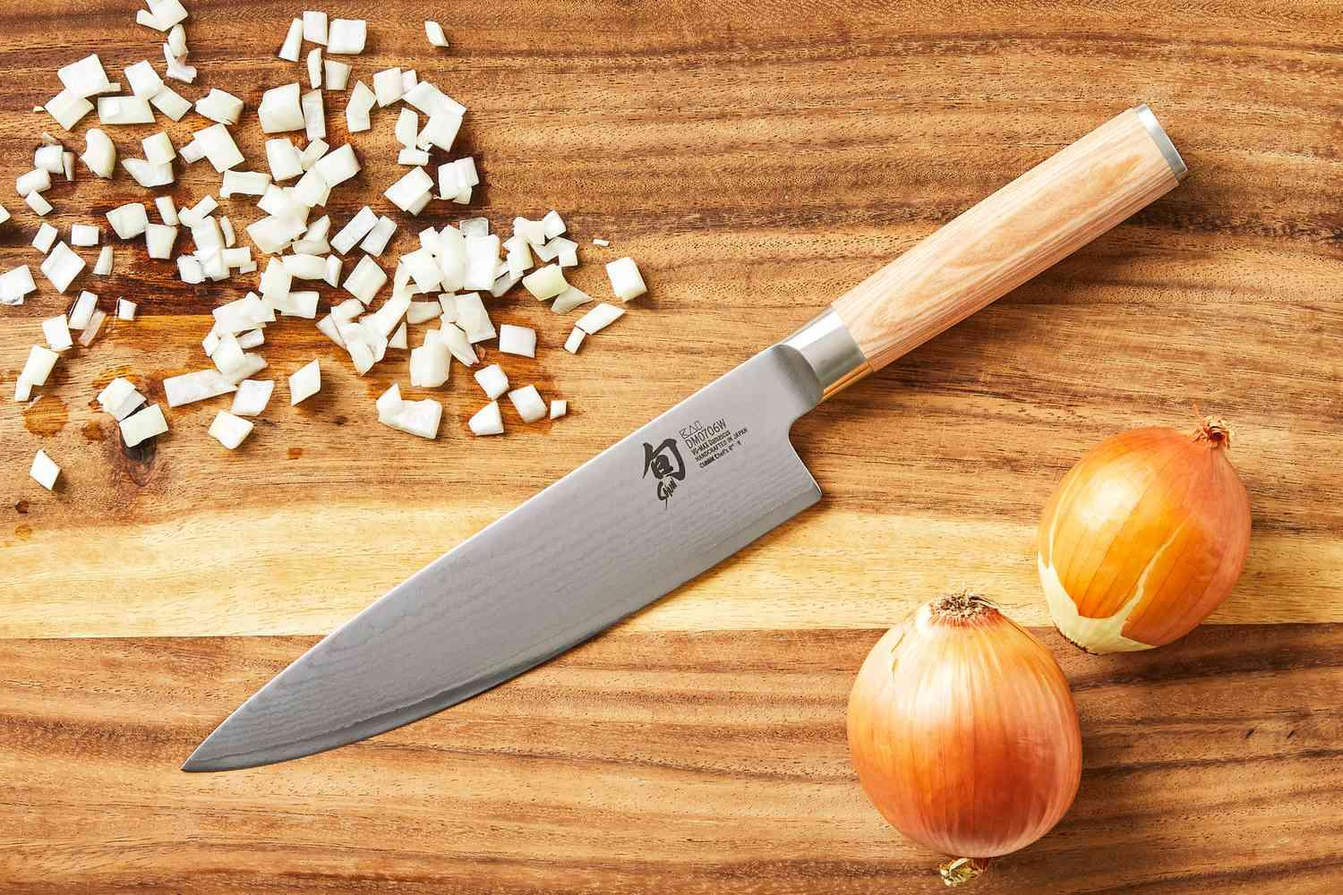Knife: (181, 107, 1193, 774)
